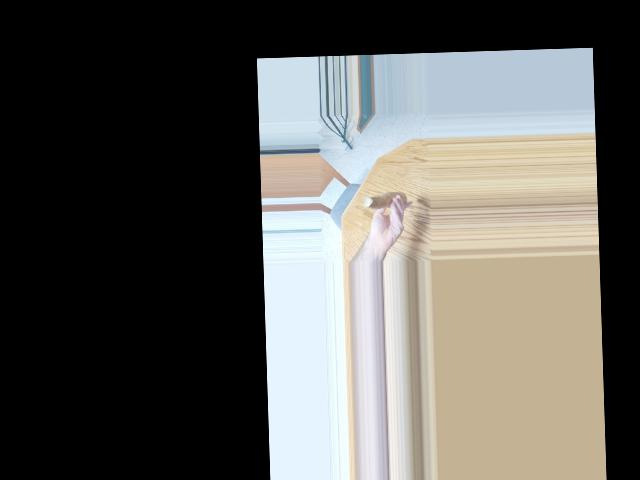sweet_potato: (364, 189, 402, 214)
